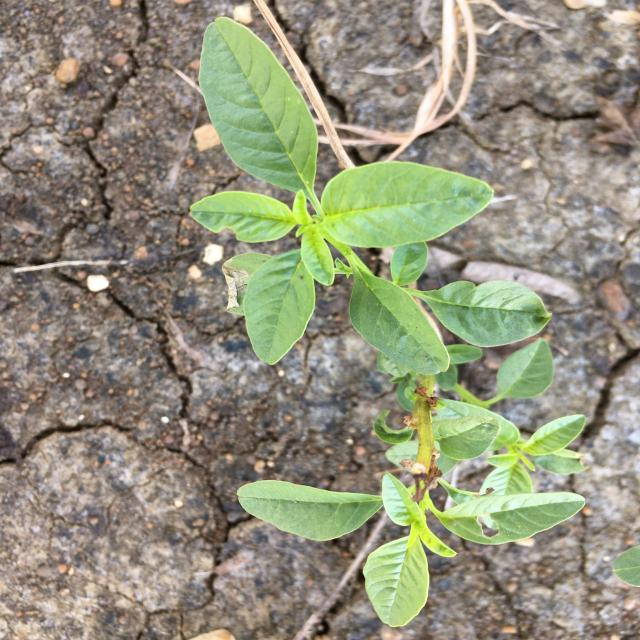Waterhemp: (188, 16, 590, 628)
